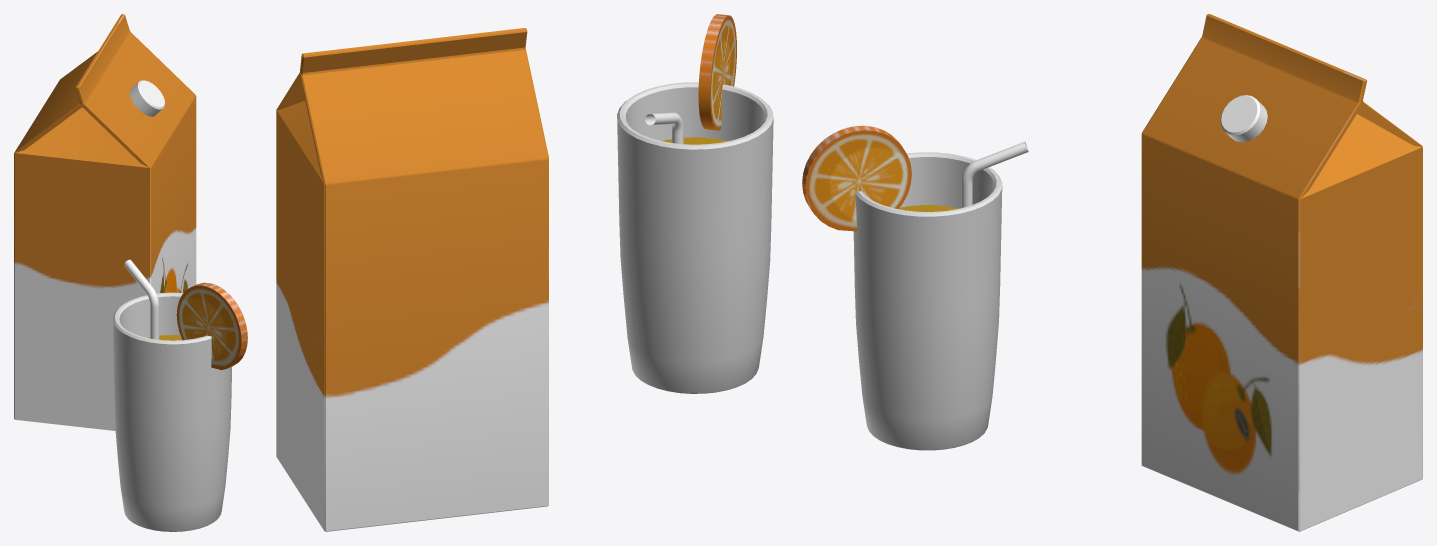
Rendered from dzus.fbx.
The picture shows the model from 3 angles, left to right: view 1: azimuth 30°, elevation 25°; view 2: azimuth 150°, elevation 25°; view 3: azimuth 270°, elevation 25°; orthographic projection. The views are drawn at different scales.
Parts seen in each view (by area): view 1: Cylinder_Cylinder.004, Cylinder.002_Cylinder.001, Cylinder.001_Cylinder.002; view 2: Cylinder_Cylinder.004, Cylinder.002_Cylinder.001, Cylinder.001_Cylinder.002; view 3: Cylinder_Cylinder.004, Cylinder.002_Cylinder.001, Cylinder.001_Cylinder.002.
Boxes of the visible parts, box(x1,y1,x2,y2) form: Cylinder_Cylinder.004: box(14, 14, 196, 430); Cylinder.002_Cylinder.001: box(112, 292, 232, 531); Cylinder.001_Cylinder.002: box(176, 282, 247, 369); Cylinder_Cylinder.004: box(276, 28, 728, 531); Cylinder.002_Cylinder.001: box(617, 82, 773, 393); Cylinder.001_Cylinder.002: box(698, 14, 736, 130); Cylinder_Cylinder.004: box(898, 14, 1422, 531); Cylinder.002_Cylinder.001: box(853, 152, 1002, 450); Cylinder.001_Cylinder.002: box(802, 125, 911, 231).
Size of the model in its own units: 366 by 531 by 704.
